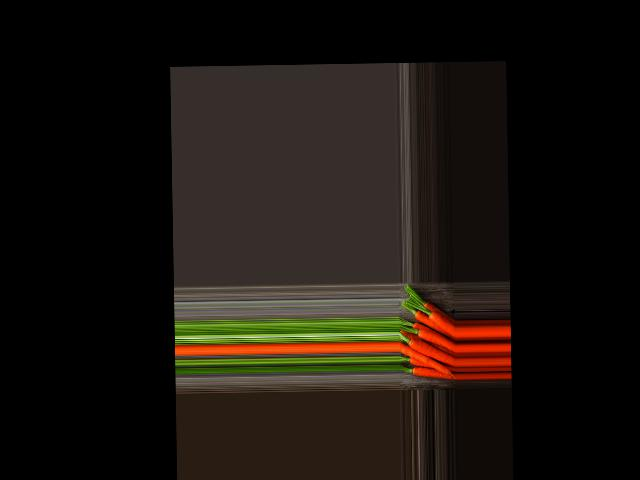carrot: (405, 309, 454, 334)
